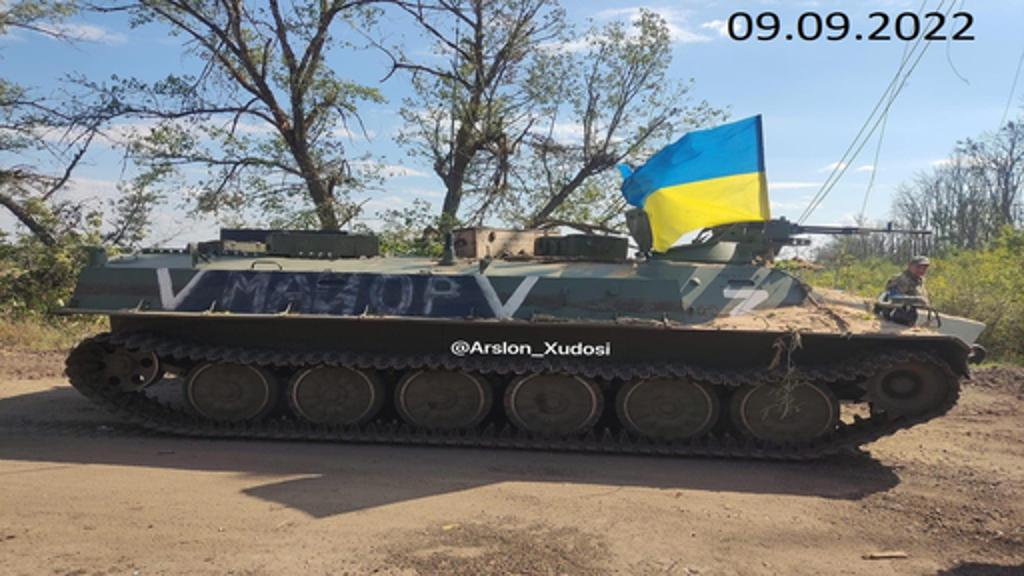APC-IFV: (52, 198, 978, 486)
